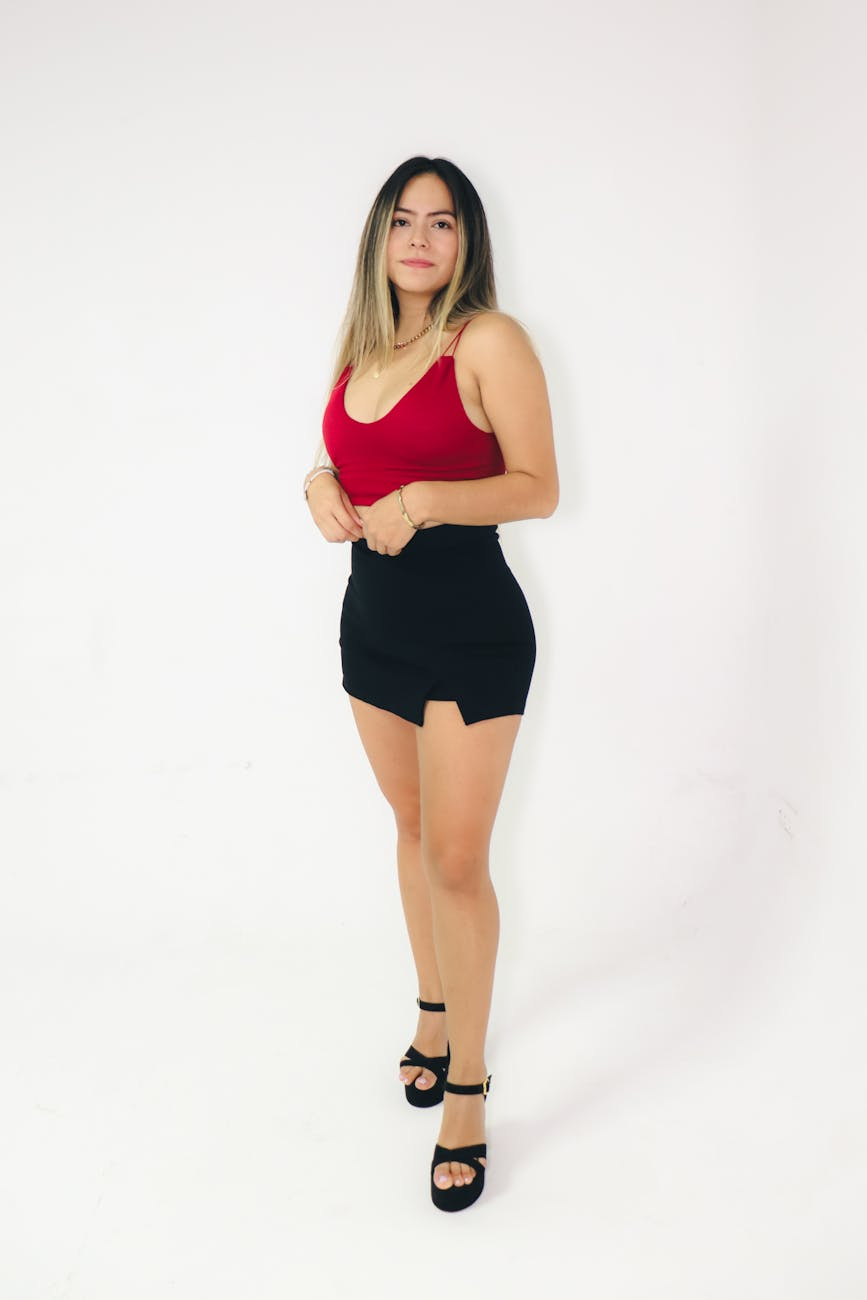crop_top: (312, 313, 521, 502)
opened_foot: (420, 1077, 495, 1214), (394, 994, 463, 1110)
shorts: (326, 512, 553, 726)
